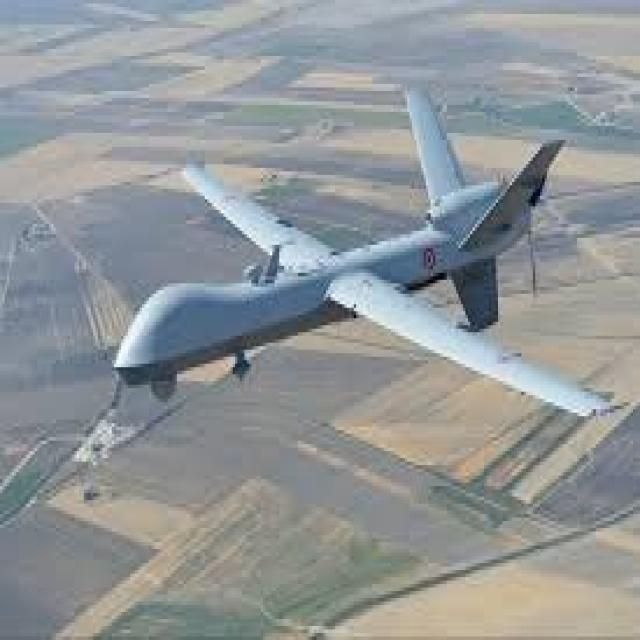MQ9: (88, 46, 640, 503)
